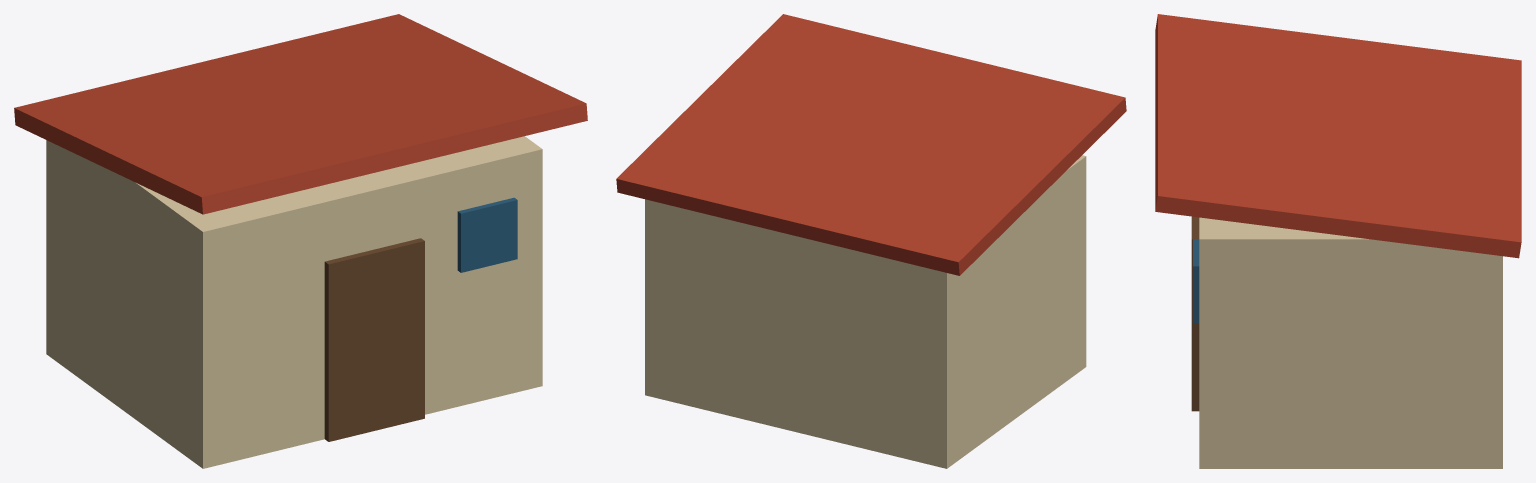
The model's file is shed.glb.
3 renders of one model, left to right at view 1: azimuth 30°, elevation 25°; view 2: azimuth 150°, elevation 25°; view 3: azimuth 270°, elevation 25°, orthographic. The views are drawn at different scales.
Visible parts, largest first — view 1: shed; view 2: shed; view 3: shed.
Part boxes in pixels (box(x1,y1,x2,y2)): shed: box(14, 14, 587, 468); shed: box(616, 14, 1126, 468); shed: box(1155, 14, 1521, 468).
Size of the model in its own units: 3.4 by 2.47 by 2.89.
